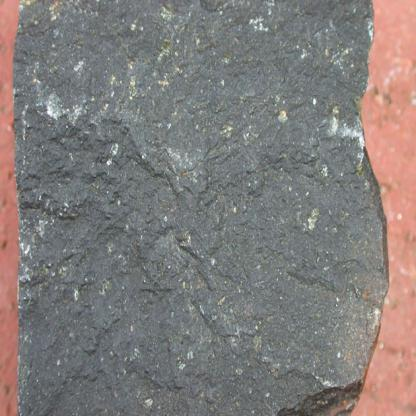Igneous_Basalt: (13, 0, 398, 415)
